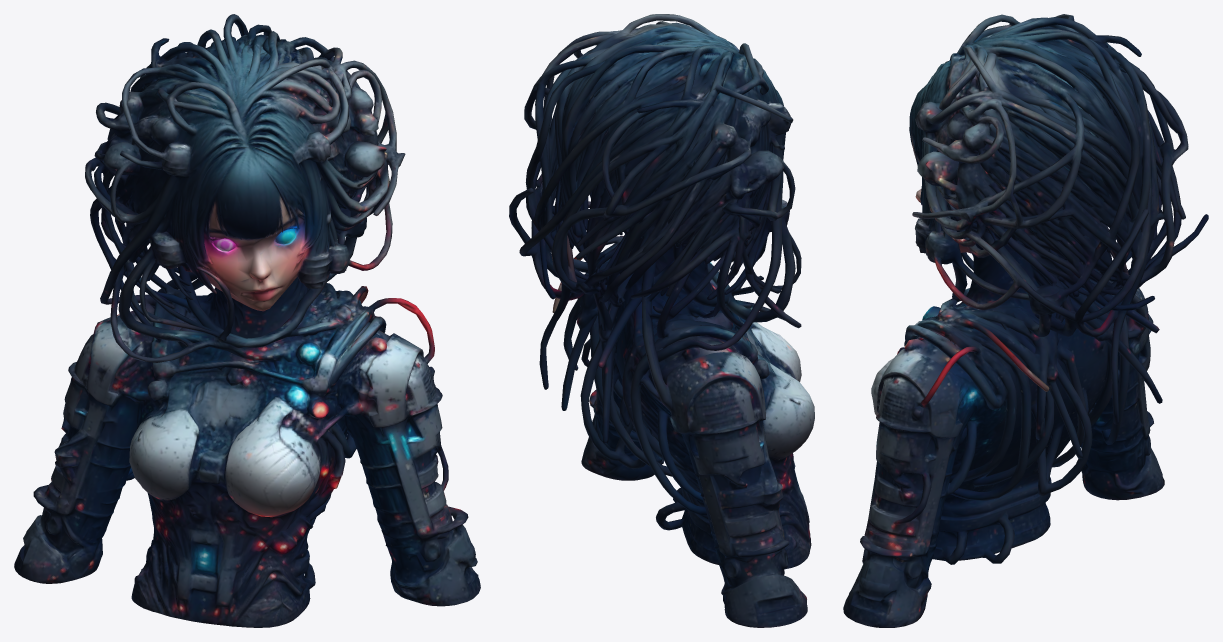
The model's file is 01a1b77a-637f-75dc-8bf3-c46b252aeb3e.glb.
The picture shows the model from 3 angles, left to right: view 1: azimuth 30°, elevation 25°; view 2: azimuth 150°, elevation 25°; view 3: azimuth 270°, elevation 25°; orthographic projection. The views are drawn at different scales.
Visible parts, largest first — view 1: node_0; view 2: node_0; view 3: node_0.
Boxes of the visible parts, x1,y1,x2,y2 form: node_0: (14, 14, 480, 627); node_0: (509, 14, 814, 627); node_0: (843, 14, 1208, 627).
Size of the model in its own units: 0.6179 by 0.92 by 0.5814.
1 material, 1 textured.
